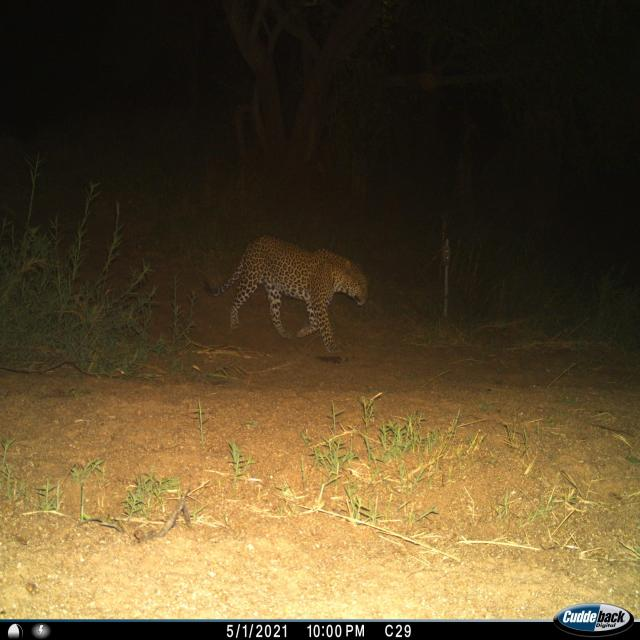Leopard: (193, 232, 384, 356)
